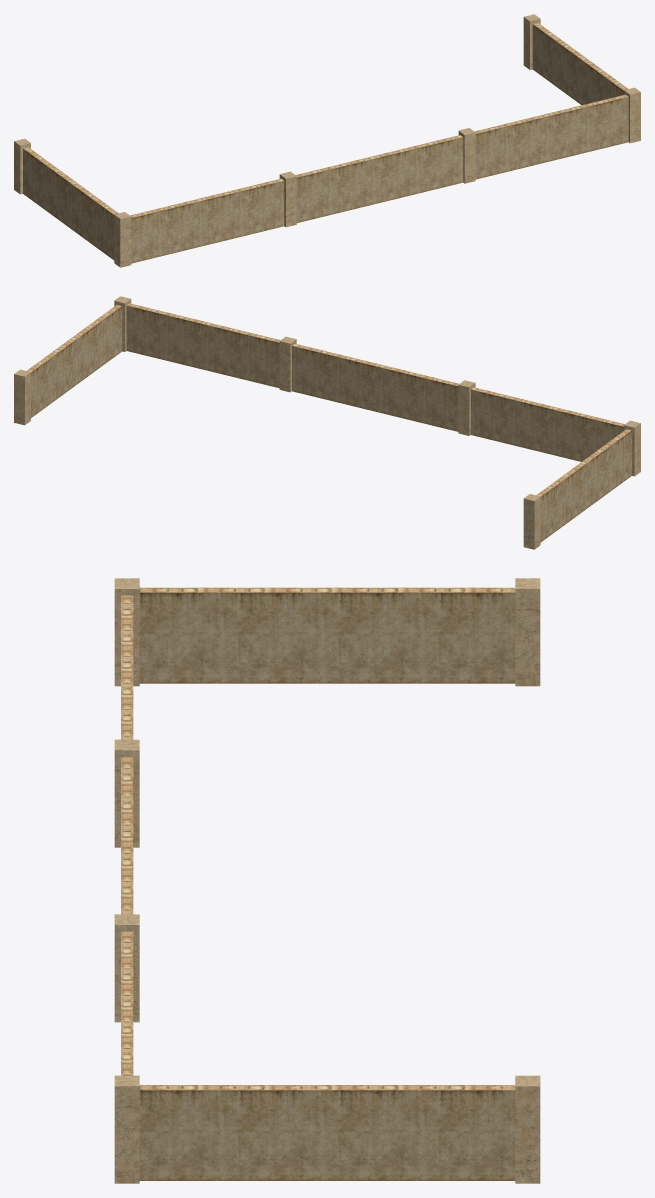
Rendered from poi_tato_corral_half_64x64_s04_l0.fbx.
The picture shows the model from 3 angles, top to bottom: view 1: azimuth 30°, elevation 25°; view 2: azimuth 150°, elevation 25°; view 3: azimuth 270°, elevation 25°; orthographic projection. The views are drawn at different scales.
Visible parts, largest first — view 1: mesh_node; view 2: mesh_node; view 3: mesh_node.
Boxes of the visible parts, x1,y1,x2,y2 form: mesh_node: (14,14,640,267); mesh_node: (14,296,640,549); mesh_node: (114,578,540,1183).
Size of the model in its own units: 48 by 4.29 by 17.
